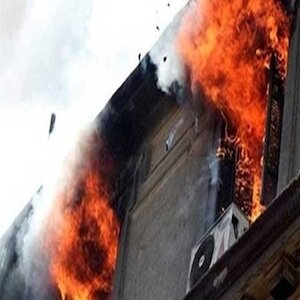fire: (185, 3, 288, 219)
